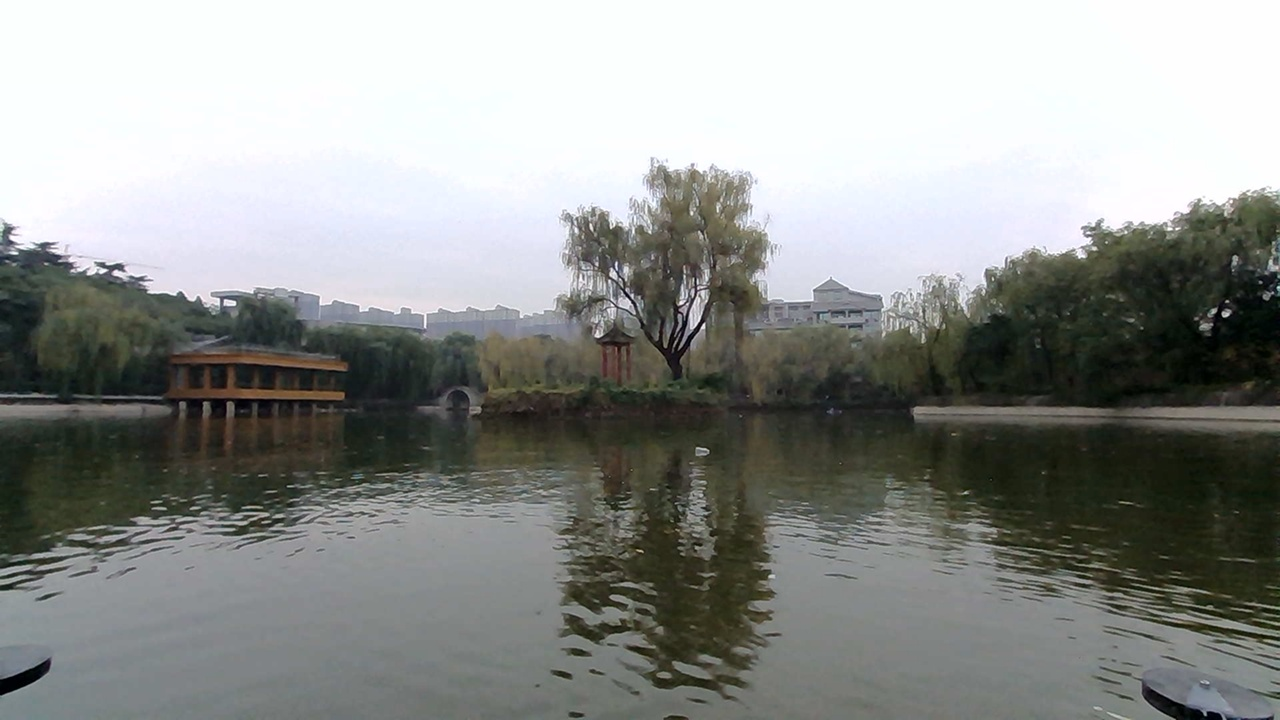bottle: (682, 430, 737, 462)
